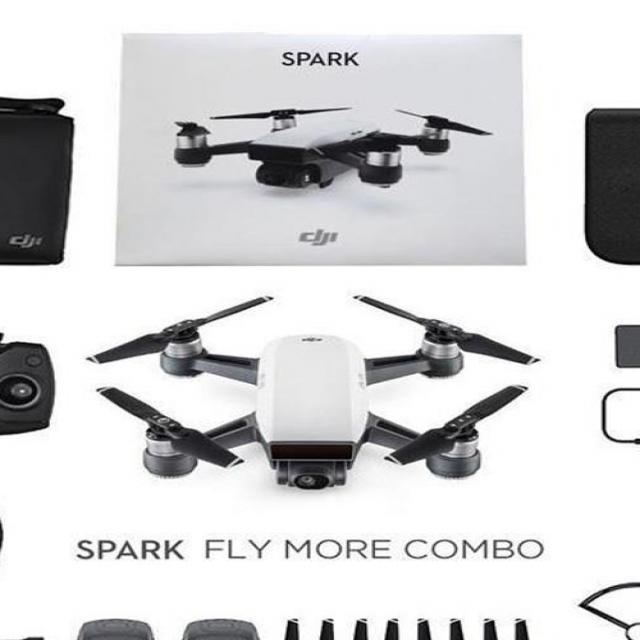drone: (83, 292, 544, 499)
